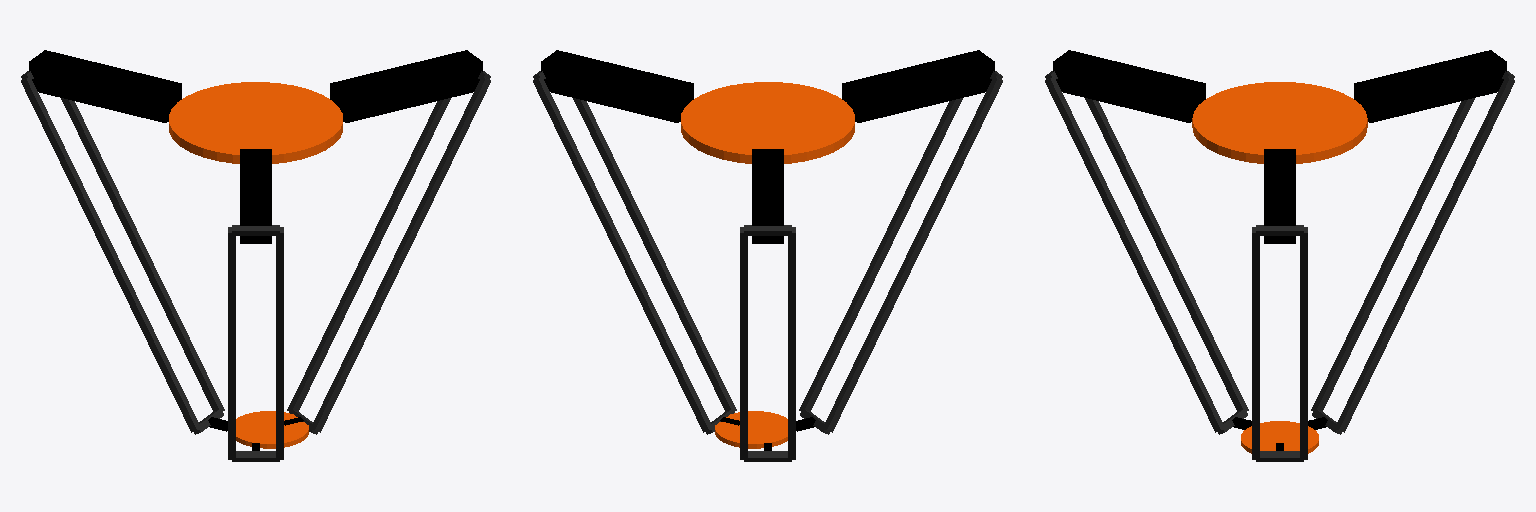
--- What the picture shows (computed from the rendered views, not written in the file) ---
The picture shows the robot from 3 angles, left to right: view 1: azimuth 30°, elevation 25°; view 2: azimuth 150°, elevation 25°; view 3: azimuth 270°, elevation 25°; orthographic projection.
Robot: delta — 29 links, 28 joints (3 revolute, 18 continuous, 7 fixed); root link world; default pose: every joint at zero.
Links seen in each view (by area): view 1: base_link, front_upper_link, left_upper_link, front_lower_right_link, left_lower_left_link, left_lower_right_link, front_lower_left_link, right_upper_link, end_link, right_lower_left_link, right_lower_right_link; view 2: base_link, front_upper_link, right_upper_link, front_lower_left_link, right_lower_right_link, right_lower_left_link, front_lower_right_link, left_upper_link, end_link, left_lower_right_link, left_lower_left_link; view 3: base_link, right_upper_link, left_upper_link, right_lower_left_link, left_lower_right_link, right_lower_right_link, left_lower_left_link, front_upper_link, front_lower_right_link, front_lower_left_link, end_link.
Boxes of the visible links, x1,y1,x2,y2 form: base_link: (169, 82, 342, 163); front_upper_link: (330, 50, 482, 122); left_upper_link: (29, 50, 181, 122); front_lower_right_link: (311, 77, 490, 432); left_lower_left_link: (21, 78, 200, 432); left_lower_right_link: (61, 98, 224, 412); front_lower_left_link: (287, 98, 450, 412); right_upper_link: (240, 149, 271, 243); end_link: (236, 411, 308, 448); right_lower_left_link: (276, 227, 283, 459); right_lower_right_link: (228, 227, 235, 459); base_link: (681, 82, 854, 163); front_upper_link: (541, 50, 693, 122); right_upper_link: (842, 50, 994, 122); front_lower_left_link: (533, 77, 712, 432); right_lower_right_link: (823, 78, 1002, 432); right_lower_left_link: (799, 98, 962, 412); front_lower_right_link: (573, 98, 736, 412); left_upper_link: (752, 149, 783, 243); end_link: (715, 411, 787, 448); left_lower_right_link: (740, 227, 747, 459); left_lower_left_link: (788, 227, 795, 459); base_link: (1192, 82, 1367, 163); right_upper_link: (1053, 50, 1205, 122); left_upper_link: (1354, 50, 1506, 122); right_lower_left_link: (1045, 78, 1224, 432); left_lower_right_link: (1335, 78, 1514, 432); right_lower_right_link: (1085, 98, 1248, 412); left_lower_left_link: (1311, 98, 1474, 412); front_upper_link: (1264, 149, 1295, 243); front_lower_right_link: (1252, 227, 1259, 459); front_lower_left_link: (1300, 227, 1307, 459); end_link: (1241, 421, 1318, 453).
Size in the robot's own frame: 0.5193 by 0.5967 by 0.4598 metres.
Geometry: primitives only (box / cylinder / sphere), no mesh files.

URDF robot description (delta):
<?xml version="1.0" ?>
<!-- =================================================================================== -->
<!-- |    This document was autogenerated by xacro from delta.urdf.xacro               | -->
<!-- |    EDITING THIS FILE BY HAND IS NOT RECOMMENDED                                 | -->
<!-- =================================================================================== -->
<!-- Revolute-Revolute Manipulator -->
<robot name="delta">
  <!-- Upper link -->
  <physics type="ode">
    <max_step_size>0.001</max_step_size>
    <real_time_factor>0.1</real_time_factor>
    <real_time_update_rate>1000</real_time_update_rate>
    <gravity>0 0 -9.8</gravity>
  </physics>
  <gazebo>
    <plugin filename="libgazebo_ros_control.so" name="gazebo_ros_control">
      <robotNamespace/>
      <robotSimType>gazebo_ros_control/DefaultRobotHWSim</robotSimType>
      <legacyModeNS>true</legacyModeNS>
    </plugin>
  </gazebo>
  <gazebo reference="base_link">
    <material>Gazebo/Orange</material>
    <selfCollide>false</selfCollide>
  </gazebo>
  <gazebo reference="end_link">
    <material>Gazebo/Orange</material>
    <selfCollide>false</selfCollide>
  </gazebo>
  <transmission name="front_delta_arm_joint_trans">
    <type>transmission_interface/SimpleTransmission</type>
    <joint name="front_delta_arm_joint">
      <hardwareInterface>hardware_interface/EffortJointInterface</hardwareInterface>
    </joint>
    <actuator name="front_delta_arm_joint_motor">
      <hardwareInterface>hardware_interface/EffortJointInterface</hardwareInterface>
      <mechanicalReduction>1</mechanicalReduction>
    </actuator>
  </transmission>
  <transmission name="right_delta_arm_joint_trans">
    <type>transmission_interface/SimpleTransmission</type>
    <joint name="right_delta_arm_joint">
      <hardwareInterface>hardware_interface/EffortJointInterface</hardwareInterface>
    </joint>
    <actuator name="right_delta_arm_joint_motor">
      <hardwareInterface>hardware_interface/EffortJointInterface</hardwareInterface>
      <mechanicalReduction>1</mechanicalReduction>
    </actuator>
  </transmission>
  <transmission name="left_delta_arm_joint_trans">
    <type>transmission_interface/SimpleTransmission</type>
    <joint name="left_delta_arm_joint">
      <hardwareInterface>hardware_interface/EffortJointInterface</hardwareInterface>
    </joint>
    <actuator name="left_delta_arm_joint_motor">
      <hardwareInterface>hardware_interface/EffortJointInterface</hardwareInterface>
      <mechanicalReduction>1</mechanicalReduction>
    </actuator>
  </transmission>
  <material name="black">
    <color rgba="0.0 0.0 0.0 1.0"/>
  </material>
  <material name="blue">
    <color rgba="0.0 0.0 0.8 1.0"/>
  </material>
  <material name="green">
    <color rgba="0.0 0.8 0.0 1.0"/>
  </material>
  <material name="grey">
    <color rgba="0.2 0.2 0.2 1.0"/>
  </material>
  <material name="orange">
    <color rgba="1.0 0.4235294117647059 0.0392156862745098 1.0"/>
  </material>
  <material name="brown">
    <color rgba="0.8705882352941177 0.8117647058823529 0.7647058823529411 1.0"/>
  </material>
  <material name="red">
    <color rgba="0.8 0.0 0.0 1.0"/>
  </material>
  <material name="white">
    <color rgba="1.0 1.0 1.0 1.0"/>
  </material>
  <!-- Used for fixing robot to Gazebo 'base_link' -->
  <link name="world"/>
  <joint name="fixed" type="fixed">
    <parent link="world"/>
    <child link="base_link"/>
    <origin rpy="0 0 0" xyz="0 0 2"/>
  </joint>
  <link name="base_link">
    <collision>
      <origin rpy="0 0 0" xyz="0 0 0"/>
      <geometry>
        <cylinder length="0.0127" radius="0.111"/>
      </geometry>
    </collision>
    <visual>
      <origin rpy="0 0 0" xyz="0 0 0"/>
      <geometry>
        <cylinder length="0.0127" radius="0.111"/>
      </geometry>
      <material name="orange">
        <color rgba="1.0 0.4235294117647059 0.0392156862745098 1.0"/>
      </material>
    </visual>
    <inertial>
      <origin rpy="0 0 0" xyz="0 0 0"/>
      <mass value="1"/>
      <inertia ixx="0.1" ixy="0.0" ixz="0.0" iyy="0.1" iyz="0.0" izz="0.1"/>
    </inertial>
  </link>
  <link name="front_upper_link">
    <collision>
      <origin rpy="0 0 0" xyz="0.1 0 0"/>
      <geometry>
        <box size="0.2 0.04 0.04"/>
      </geometry>
    </collision>
    <visual>
      <origin rpy="0 0 0" xyz="0.1 0 0"/>
      <geometry>
        <box size="0.2 0.04 0.04"/>
      </geometry>
      <material name="black">
        <color rgba="0.0 0.0 0.0 1.0"/>
      </material>
    </visual>
    <inertial>
      <origin rpy="0 0 0" xyz="0 0 0.1"/>
      <mass value="0.02"/>
      <inertia ixx="5.333333333333334e-06" ixy="0.0" ixz="0.0" iyy="6.933333333333334e-05" iyz="0.0" izz="6.933333333333334e-05"/>
    </inertial>
  </link>
  <joint name="front_upper_joint" type="continuous">
    <parent link="front_upper_link"/>
    <child link="front_lower_top_link"/>
    <origin rpy="0 0.5235987755982988 0" xyz="0.2 0 0"/>
    <axis xyz="0 1 0"/>
  </joint>
  <link name="front_lower_top_link">
    <collision>
      <origin rpy="0 0 0" xyz="0 0 0"/>
      <geometry>
        <box size="0.01 0.06 0.01"/>
      </geometry>
    </collision>
    <visual>
      <origin rpy="0 0 0" xyz="0 0 0"/>
      <geometry>
        <box size="0.01 0.06 0.01"/>
      </geometry>
      <material name="grey">
        <color rgba="0.2 0.2 0.2 1.0"/>
      </material>
    </visual>
    <inertial>
      <origin rpy="0 0 0" xyz="0 0 0"/>
      <mass value="0.02"/>
      <inertia ixx="6.166666666666666e-06" ixy="0.0" ixz="0.0" iyy="3.3333333333333335e-07" iyz="0.0" izz="6.166666666666666e-06"/>
    </inertial>
  </link>
  <joint name="front_lower_top_rignt_joint" type="continuous">
    <parent link="front_lower_top_link"/>
    <child link="front_lower_right_link"/>
    <origin rpy="0 0 0" xyz="0 -0.03 0"/>
    <axis xyz="1 0 0"/>
  </joint>
  <link name="front_lower_right_link">
    <collision>
      <origin rpy="0 0 0" xyz="0 0 -0.25"/>
      <geometry>
        <box size="0.01 0.01 0.5"/>
      </geometry>
    </collision>
    <visual>
      <origin rpy="0 0 0" xyz="0 0 -0.25"/>
      <geometry>
        <box size="0.01 0.01 0.5"/>
      </geometry>
      <material name="grey">
        <color rgba="0.2 0.2 0.2 1.0"/>
      </material>
    </visual>
    <inertial>
      <origin rpy="0 0 0" xyz="0 0 -0.25"/>
      <mass value="0.02"/>
      <inertia ixx="0.00041683333333333335" ixy="0.0" ixz="0.0" iyy="0.00041683333333333335" iyz="0.0" izz="3.3333333333333335e-07"/>
    </inertial>
  </link>
  <joint name="front_lower_top_left_joint" type="continuous">
    <parent link="front_lower_top_link"/>
    <child link="front_lower_left_link"/>
    <origin rpy="0 0 0" xyz="0 0.03 0"/>
    <axis xyz="1 0 0"/>
  </joint>
  <link name="front_lower_left_link">
    <collision>
      <origin rpy="0 0 0" xyz="0 0 -0.25"/>
      <geometry>
        <box size="0.01 0.01 0.5"/>
      </geometry>
    </collision>
    <visual>
      <origin rpy="0 0 0" xyz="0 0 -0.25"/>
      <geometry>
        <box size="0.01 0.01 0.5"/>
      </geometry>
      <material name="grey">
        <color rgba="0.2 0.2 0.2 1.0"/>
      </material>
    </visual>
    <inertial>
      <origin rpy="0 0 0" xyz="0 0 -0.25"/>
      <mass value="0.02"/>
      <inertia ixx="0.00041683333333333335" ixy="0.0" ixz="0.0" iyy="0.00041683333333333335" iyz="0.0" izz="3.3333333333333335e-07"/>
    </inertial>
  </link>
  <joint name="front_lower_right_bottom_joint" type="continuous">
    <parent link="front_lower_right_link"/>
    <child link="front_lower_bottom_link"/>
    <origin rpy="0 0 0" xyz="0 0 -0.5"/>
    <axis xyz="1 0 0"/>
  </joint>
  <link name="front_lower_bottom_link">
    <collision>
      <origin rpy="0 0 0" xyz="0 0.03 0"/>
      <geometry>
        <box size="0.01 0.06 0.01"/>
      </geometry>
    </collision>
    <visual>
      <origin rpy="0 0 0" xyz="0 0.03 0"/>
      <geometry>
        <box size="0.01 0.06 0.01"/>
      </geometry>
      <material name="grey">
        <color rgba="0.2 0.2 0.2 1.0"/>
      </material>
    </visual>
    <inertial>
      <origin rpy="0 0 0" xyz="0 0.03 0"/>
      <mass value="0.02"/>
      <inertia ixx="6.166666666666666e-06" ixy="0.0" ixz="0.0" iyy="6.166666666666666e-06" iyz="0.0" izz="3.3333333333333335e-07"/>
    </inertial>
  </link>
  <joint name="front_lower_bottom_end_joint" type="continuous">
    <parent link="front_lower_bottom_link"/>
    <child link="front_lower_end_link"/>
    <origin rpy="0 -0.5235987755982988 0" xyz="0 0.03 0"/>
    <axis xyz="0 1 0"/>
  </joint>
  <link name="front_lower_end_link">
    <collision>
      <origin rpy="0 0 0" xyz="-0.015 0 0"/>
      <geometry>
        <box size="0.03 0.01 0.01"/>
      </geometry>
    </collision>
    <visual>
      <origin rpy="0 0 0" xyz="-0.015 0 0"/>
      <geometry>
        <box size="0.03 0.01 0.01"/>
      </geometry>
      <material name="black">
        <color rgba="0.0 0.0 0.0 1.0"/>
      </material>
    </visual>
    <inertial>
      <origin rpy="0 0 0" xyz="-0.015 0 0"/>
      <mass value="0.02"/>
      <inertia ixx="3.3333333333333335e-07" ixy="0.0" ixz="0.0" iyy="1.6666666666666669e-06" iyz="0.0" izz="1.6666666666666669e-06"/>
    </inertial>
  </link>
  <joint name="front_lower_bottom_virtual_joint" type="continuous">
    <parent link="front_lower_bottom_link"/>
    <child link="front_lower_bottom_virtual_link"/>
    <origin rpy="0 0 0" xyz="0 0.06 0"/>
    <axis xyz="1 0 0"/>
  </joint>
  <link name="front_lower_bottom_virtual_link">
    <inertial>
      <origin rpy="0 0 0" xyz="0 0 0"/>
      <mass value="0.01"/>
      <inertia ixx="0.001" ixy="0.0" ixz="0.0" iyy="0.001" iyz="0.0" izz="0.001"/>
    </inertial>
  </link>
  <joint name="front_lower_left_virtual_joint" type="fixed">
    <parent link="front_lower_left_link"/>
    <child link="front_lower_left_virtual_link"/>
    <origin rpy="0 0 0" xyz="0 0 -0.5"/>
  </joint>
  <link name="front_lower_left_virtual_link">
    <inertial>
      <origin rpy="0 0 0" xyz="0 0 0"/>
      <mass value="0.01"/>
      <inertia ixx="0.001" ixy="0.0" ixz="0.0" iyy="0.001" iyz="0.0" izz="0.001"/>
    </inertial>
  </link>
  <gazebo>
    <joint name="front_lower_left_bottom_joint" type="fixed">
      <parent>front_lower_left_virtual_link</parent>
      <child>front_lower_bottom_virtual_link</child>
      <pose> 0 0 0 0 0 0 </pose>
    </joint>
  </gazebo>
  <gazebo reference="front_upper_link">
    <material>Gazebo/Black</material>
    <selfCollide>false</selfCollide>
  </gazebo>
  <gazebo reference="front_lower_top_link">
    <material>Gazebo/Grey</material>
    <selfCollide>false</selfCollide>
  </gazebo>
  <gazebo reference="front_lower_right_link">
    <material>Gazebo/Grey</material>
    <selfCollide>false</selfCollide>
  </gazebo>
  <gazebo reference="front_lower_left_link">
    <material>Gazebo/Grey</material>
    <selfCollide>false</selfCollide>
  </gazebo>
  <gazebo reference="front_lower_bottom_link">
    <material>Gazebo/Grey</material>
    <selfCollide>false</selfCollide>
  </gazebo>
  <gazebo reference="front_lower_end_link">
    <material>Gazebo/Black</material>
    <selfCollide>false</selfCollide>
  </gazebo>
  <transmission name="front_upper_joint_trans">
    <type>transmission_interface/SimpleTransmission</type>
    <joint name="front_upper_joint">
      <hardwareInterface>hardware_interface/EffortJointInterface</hardwareInterface>
    </joint>
    <actuator name="front_upper_joint_motor">
      <hardwareInterface>hardware_interface/EffortJointInterface</hardwareInterface>
      <mechanicalReduction>1</mechanicalReduction>
    </actuator>
  </transmission>
  <transmission name="front_lower_top_rignt_joint_trans">
    <type>transmission_interface/SimpleTransmission</type>
    <joint name="front_lower_top_rignt_joint">
      <hardwareInterface>hardware_interface/EffortJointInterface</hardwareInterface>
    </joint>
    <actuator name="front_lower_top_rignt_joint_motor">
      <hardwareInterface>hardware_interface/EffortJointInterface</hardwareInterface>
      <mechanicalReduction>1</mechanicalReduction>
    </actuator>
  </transmission>
  <transmission name="front_lower_top_left_joint_trans">
    <type>transmission_interface/SimpleTransmission</type>
    <joint name="front_lower_top_left_joint">
      <hardwareInterface>hardware_interface/EffortJointInterface</hardwareInterface>
    </joint>
    <actuator name="front_lower_top_left_joint_motor">
      <hardwareInterface>hardware_interface/EffortJointInterface</hardwareInterface>
      <mechanicalReduction>1</mechanicalReduction>
    </actuator>
  </transmission>
  <transmission name="front_lower_right_bottom_joint_trans">
    <type>transmission_interface/SimpleTransmission</type>
    <joint name="front_lower_right_bottom_joint">
      <hardwareInterface>hardware_interface/EffortJointInterface</hardwareInterface>
    </joint>
    <actuator name="front_lower_right_bottom_joint_motor">
      <hardwareInterface>hardware_interface/EffortJointInterface</hardwareInterface>
      <mechanicalReduction>1</mechanicalReduction>
    </actuator>
  </transmission>
  <transmission name="front_lower_bottom_end_joint_trans">
    <type>transmission_interface/SimpleTransmission</type>
    <joint name="front_lower_bottom_end_joint">
      <hardwareInterface>hardware_interface/EffortJointInterface</hardwareInterface>
    </joint>
    <actuator name="front_lower_bottom_end_joint_motor">
      <hardwareInterface>hardware_interface/EffortJointInterface</hardwareInterface>
      <mechanicalReduction>1</mechanicalReduction>
    </actuator>
  </transmission>
  <transmission name="front_lower_bottom_virtual_joint_trans">
    <type>transmission_interface/SimpleTransmission</type>
    <joint name="front_lower_bottom_virtual_joint">
      <hardwareInterface>hardware_interface/EffortJointInterface</hardwareInterface>
    </joint>
    <actuator name="front_lower_bottom_virtual_joint_motor">
      <hardwareInterface>hardware_interface/EffortJointInterface</hardwareInterface>
      <mechanicalReduction>1</mechanicalReduction>
    </actuator>
  </transmission>
  <joint name="front_delta_arm_joint" type="revolute">
    <parent link="base_link"/>
    <child link="front_upper_link"/>
    <origin rpy="0 0 0" xyz="0.12 0 0"/>
    <axis xyz="0 1 0"/>
    <dynamics damping="0.7"/>
    <limit effort="6" lower="-0.3490658503988659" upper="1.5707963267948966" velocity="8"/>
  </joint>
  <link name="right_upper_link">
    <collision>
      <origin rpy="0 0 0" xyz="0.1 0 0"/>
      <geometry>
        <box size="0.2 0.04 0.04"/>
      </geometry>
    </collision>
    <visual>
      <origin rpy="0 0 0" xyz="0.1 0 0"/>
      <geometry>
        <box size="0.2 0.04 0.04"/>
      </geometry>
      <material name="black">
        <color rgba="0.0 0.0 0.0 1.0"/>
      </material>
    </visual>
    <inertial>
      <origin rpy="0 0 0" xyz="0 0 0.1"/>
      <mass value="0.02"/>
      <inertia ixx="5.333333333333334e-06" ixy="0.0" ixz="0.0" iyy="6.933333333333334e-05" iyz="0.0" izz="6.933333333333334e-05"/>
    </inertial>
  </link>
  <joint name="right_upper_joint" type="continuous">
    <parent link="right_upper_link"/>
    <child link="right_lower_top_link"/>
    <origin rpy="0 0.5235987755982988 0" xyz="0.2 0 0"/>
    <axis xyz="0 1 0"/>
  </joint>
  <link name="right_lower_top_link">
    <collision>
      <origin rpy="0 0 0" xyz="0 0 0"/>
      <geometry>
        <box size="0.01 0.06 0.01"/>
      </geometry>
    </collision>
    <visual>
      <origin rpy="0 0 0" xyz="0 0 0"/>
      <geometry>
        <box size="0.01 0.06 0.01"/>
      </geometry>
      <material name="grey">
        <color rgba="0.2 0.2 0.2 1.0"/>
      </material>
    </visual>
    <inertial>
      <origin rpy="0 0 0" xyz="0 0 0"/>
      <mass value="0.02"/>
      <inertia ixx="6.166666666666666e-06" ixy="0.0" ixz="0.0" iyy="3.3333333333333335e-07" iyz="0.0" izz="6.166666666666666e-06"/>
    </inertial>
  </link>
  <joint name="right_lower_top_rignt_joint" type="continuous">
    <parent link="right_lower_top_link"/>
    <child link="right_lower_right_link"/>
    <origin rpy="0 0 0" xyz="0 -0.03 0"/>
    <axis xyz="1 0 0"/>
  </joint>
  <link name="right_lower_right_link">
    <collision>
      <origin rpy="0 0 0" xyz="0 0 -0.25"/>
      <geometry>
        <box size="0.01 0.01 0.5"/>
      </geometry>
    </collision>
    <visual>
      <origin rpy="0 0 0" xyz="0 0 -0.25"/>
      <geometry>
        <box size="0.01 0.01 0.5"/>
      </geometry>
      <material name="grey">
        <color rgba="0.2 0.2 0.2 1.0"/>
      </material>
    </visual>
    <inertial>
      <origin rpy="0 0 0" xyz="0 0 -0.25"/>
      <mass value="0.02"/>
      <inertia ixx="0.00041683333333333335" ixy="0.0" ixz="0.0" iyy="0.00041683333333333335" iyz="0.0" izz="3.3333333333333335e-07"/>
    </inertial>
  </link>
  <joint name="right_lower_top_left_joint" type="continuous">
    <parent link="right_lower_top_link"/>
    <child link="right_lower_left_link"/>
    <origin rpy="0 0 0" xyz="0 0.03 0"/>
    <axis xyz="1 0 0"/>
  </joint>
  <link name="right_lower_left_link">
    <collision>
      <origin rpy="0 0 0" xyz="0 0 -0.25"/>
      <geometry>
        <box size="0.01 0.01 0.5"/>
      </geometry>
    </collision>
    <visual>
      <origin rpy="0 0 0" xyz="0 0 -0.25"/>
      <geometry>
        <box size="0.01 0.01 0.5"/>
      </geometry>
      <material name="grey">
        <color rgba="0.2 0.2 0.2 1.0"/>
      </material>
    </visual>
    <inertial>
      <origin rpy="0 0 0" xyz="0 0 -0.25"/>
      <mass value="0.02"/>
      <inertia ixx="0.00041683333333333335" ixy="0.0" ixz="0.0" iyy="0.00041683333333333335" iyz="0.0" izz="3.3333333333333335e-07"/>
    </inertial>
  </link>
  <joint name="right_lower_right_bottom_joint" type="continuous">
    <parent link="right_lower_right_link"/>
    <child link="right_lower_bottom_link"/>
    <origin rpy="0 0 0" xyz="0 0 -0.5"/>
    <axis xyz="1 0 0"/>
  </joint>
  <link name="right_lower_bottom_link">
    <collision>
      <origin rpy="0 0 0" xyz="0 0.03 0"/>
      <geometry>
        <box size="0.01 0.06 0.01"/>
      </geometry>
    </collision>
    <visual>
      <origin rpy="0 0 0" xyz="0 0.03 0"/>
      <geometry>
        <box size="0.01 0.06 0.01"/>
      </geometry>
      <material name="grey">
        <color rgba="0.2 0.2 0.2 1.0"/>
      </material>
    </visual>
    <inertial>
      <origin rpy="0 0 0" xyz="0 0.03 0"/>
      <mass value="0.02"/>
      <inertia ixx="6.166666666666666e-06" ixy="0.0" ixz="0.0" iyy="6.166666666666666e-06" iyz="0.0" izz="3.3333333333333335e-07"/>
    </inertial>
  </link>
  <joint name="right_lower_bottom_end_joint" type="continuous">
    <parent link="right_lower_bottom_link"/>
    <child link="right_lower_end_link"/>
    <origin rpy="0 -0.5235987755982988 0" xyz="0 0.03 0"/>
    <axis xyz="0 1 0"/>
  </joint>
  <link name="right_lower_end_link">
    <collision>
      <origin rpy="0 0 0" xyz="-0.015 0 0"/>
      <geometry>
        <box size="0.03 0.01 0.01"/>
      </geometry>
    </collision>
    <visual>
      <origin rpy="0 0 0" xyz="-0.015 0 0"/>
      <geometry>
        <box size="0.03 0.01 0.01"/>
      </geometry>
      <material name="black">
        <color rgba="0.0 0.0 0.0 1.0"/>
      </material>
    </visual>
    <inertial>
      <origin rpy="0 0 0" xyz="-0.015 0 0"/>
      <mass value="0.02"/>
      <inertia ixx="3.3333333333333335e-07" ixy="0.0" ixz="0.0" iyy="1.6666666666666669e-06" iyz="0.0" izz="1.6666666666666669e-06"/>
    </inertial>
  </link>
  <joint name="right_lower_bottom_virtual_joint" type="continuous">
    <parent link="right_lower_bottom_link"/>
    <child link="right_lower_bottom_virtual_link"/>
    <origin rpy="0 0 0" xyz="0 0.06 0"/>
    <axis xyz="1 0 0"/>
  </joint>
  <link name="right_lower_bottom_virtual_link">
    <inertial>
      <origin rpy="0 0 0" xyz="0 0 0"/>
      <mass value="0.01"/>
      <inertia ixx="0.001" ixy="0.0" ixz="0.0" iyy="0.001" iyz="0.0" izz="0.001"/>
    </inertial>
  </link>
  <joint name="right_lower_left_virtual_joint" type="fixed">
    <parent link="right_lower_left_link"/>
    <child link="right_lower_left_virtual_link"/>
    <origin rpy="0 0 0" xyz="0 0 -0.5"/>
  </joint>
  <link name="right_lower_left_virtual_link">
    <inertial>
      <origin rpy="0 0 0" xyz="0 0 0"/>
      <mass value="0.01"/>
      <inertia ixx="0.001" ixy="0.0" ixz="0.0" iyy="0.001" iyz="0.0" izz="0.001"/>
    </inertial>
  </link>
  <gazebo>
    <joint name="right_lower_left_bottom_joint" type="fixed">
      <parent>right_lower_left_virtual_link</parent>
      <child>right_lower_bottom_virtual_link</child>
      <pose> 0 0 0 0 0 0 </pose>
    </joint>
  </gazebo>
  <gazebo reference="right_upper_link">
    <material>Gazebo/Black</material>
    <selfCollide>false</selfCollide>
  </gazebo>
  <gazebo reference="right_lower_top_link">
    <material>Gazebo/Grey</material>
    <selfCollide>false</selfCollide>
  </gazebo>
  <gazebo reference="right_lower_right_link">
    <material>Gazebo/Grey</material>
    <selfCollide>false</selfCollide>
  </gazebo>
  <gazebo reference="right_lower_left_link">
    <material>Gazebo/Grey</material>
    <selfCollide>false</selfCollide>
  </gazebo>
  <gazebo reference="right_lower_bottom_link">
    <material>Gazebo/Grey</material>
    <selfCollide>false</selfCollide>
  </gazebo>
  <gazebo reference="right_lower_end_link">
    <material>Gazebo/Black</material>
    <selfCollide>false</selfCollide>
  </gazebo>
  <transmission name="right_upper_joint_trans">
    <type>transmission_interface/SimpleTransmission</type>
    <joint name="right_upper_joint">
      <hardwareInterface>hardware_interface/EffortJointInterface</hardwareInterface>
    </joint>
    <actuator name="right_upper_joint_motor">
      <hardwareInterface>hardware_interface/EffortJointInterface</hardwareInterface>
      <mechanicalReduction>1</mechanicalReduction>
    </actuator>
  </transmission>
  <transmission name="right_lower_top_rignt_joint_trans">
    <type>transmission_interface/SimpleTransmission</type>
    <joint name="right_lower_top_rignt_joint">
      <hardwareInterface>hardware_interface/EffortJointInterface</hardwareInterface>
    </joint>
    <actuator name="right_lower_top_rignt_joint_motor">
      <hardwareInterface>hardware_interface/EffortJointInterface</hardwareInterface>
      <mechanicalReduction>1</mechanicalReduction>
    </actuator>
  </transmission>
  <transmission name="right_lower_top_left_joint_trans">
    <type>transmission_interface/SimpleTransmission</type>
    <joint name="right_lower_top_left_joint">
      <hardwareInterface>hardware_interface/EffortJointInterface</hardwareInterface>
    </joint>
    <actuator name="right_lower_top_left_joint_motor">
      <hardwareInterface>hardware_interface/EffortJointInterface</hardwareInterface>
      <mechanicalReduction>1</mechanicalReduction>
    </actuator>
  </transmission>
  <transmission name="right_lower_right_bottom_joint_trans">
    <type>transmission_interface/SimpleTransmission</type>
    <joint name="right_lower_right_bottom_joint">
      <hardwareInterface>hardware_interface/EffortJointInterface</hardwareInterface>
    </joint>
    <actuator name="right_lower_right_bottom_joint_motor">
      <hardwareInterface>hardware_interface/EffortJointInterface</hardwareInterface>
      <mechanicalReduction>1</mechanicalReduction>
    </actuator>
  </transmission>
  <transmission name="right_lower_bottom_end_joint_trans">
    <type>transmission_interface/SimpleTransmission</type>
    <joint name="right_lower_bottom_end_joint">
      <hardwareInterface>hardware_interface/EffortJointInterface</hardwareInterface>
    </joint>
    <actuator name="right_lower_bottom_end_joint_motor">
      <hardwareInterface>hardware_interface/EffortJointInterface</hardwareInterface>
      <mechanicalReduction>1</mechanicalReduction>
    </actuator>
  </transmission>
  <transmission name="right_lower_bottom_virtual_joint_trans">
    <type>transmission_interface/SimpleTransmission</type>
    <joint name="right_lower_bottom_virtual_joint">
      <hardwareInterface>hardware_interface/EffortJointInterface</hardwareInterface>
    </joint>
    <actuator name="right_lower_bottom_virtual_joint_motor">
      <hardwareInterface>hardware_interface/EffortJointInterface</hardwareInterface>
      <mechanicalReduction>1</mechanicalReduction>
    </actuator>
  </transmission>
  <joint name="right_delta_arm_joint" type="revolute">
    <parent link="base_link"/>
    <child link="right_upper_link"/>
    <origin rpy="0 0 -2.0943951023931953" xyz="-0.06 -0.1039 0"/>
    <axis xyz="0 1 0"/>
    <dynamics damping="0.7"/>
    <limit effort="6" lower="-0.3490658503988659" upper="1.5707963267948966" velocity="8"/>
  </joint>
  <link name="left_upper_link">
    <collision>
      <origin rpy="0 0 0" xyz="0.1 0 0"/>
      <geometry>
        <box size="0.2 0.04 0.04"/>
      </geometry>
    </collision>
    <visual>
      <origin rpy="0 0 0" xyz="0.1 0 0"/>
      <geometry>
        <box size="0.2 0.04 0.04"/>
      </geometry>
      <material name="black">
        <color rgba="0.0 0.0 0.0 1.0"/>
      </material>
    </visual>
    <inertial>
      <origin rpy="0 0 0" xyz="0 0 0.1"/>
      <mass value="0.02"/>
      <inertia ixx="5.333333333333334e-06" ixy="0.0" ixz="0.0" iyy="6.933333333333334e-05" iyz="0.0" izz="6.933333333333334e-05"/>
    </inertial>
  </link>
  <joint name="left_upper_joint" type="continuous">
    <parent link="left_upper_link"/>
    <child link="left_lower_top_link"/>
    <origin rpy="0 0.5235987755982988 0" xyz="0.2 0 0"/>
    <axis xyz="0 1 0"/>
  </joint>
  <link name="left_lower_top_link">
    <collision>
      <origin rpy="0 0 0" xyz="0 0 0"/>
      <geometry>
        <box size="0.01 0.06 0.01"/>
      </geometry>
    </collision>
    <visual>
      <origin rpy="0 0 0" xyz="0 0 0"/>
      <geometry>
        <box size="0.01 0.06 0.01"/>
      </geometry>
      <material name="grey">
        <color rgba="0.2 0.2 0.2 1.0"/>
      </material>
    </visual>
    <inertial>
      <origin rpy="0 0 0" xyz="0 0 0"/>
      <mass value="0.02"/>
      <inertia ixx="6.166666666666666e-06" ixy="0.0" ixz="0.0" iyy="3.3333333333333335e-07" iyz="0.0" izz="6.166666666666666e-06"/>
    </inertial>
  </link>
  <joint name="left_lower_top_rignt_joint" type="continuous">
    <parent link="left_lower_top_link"/>
    <child link="left_lower_right_link"/>
    <origin rpy="0 0 0" xyz="0 -0.03 0"/>
    <axis xyz="1 0 0"/>
  </joint>
  <link name="left_lower_right_link">
    <collision>
      <origin rpy="0 0 0" xyz="0 0 -0.25"/>
      <geometry>
        <box size="0.01 0.01 0.5"/>
      </geometry>
    </collision>
    <visual>
      <origin rpy="0 0 0" xyz="0 0 -0.25"/>
      <geometry>
        <box size="0.01 0.01 0.5"/>
      </geometry>
      <material name="grey">
        <color rgba="0.2 0.2 0.2 1.0"/>
      </material>
    </visual>
    <inertial>
      <origin rpy="0 0 0" xyz="0 0 -0.25"/>
      <mass value="0.02"/>
      <inertia ixx="0.00041683333333333335" ixy="0.0" ixz="0.0" iyy="0.00041683333333333335" iyz="0.0" izz="3.3333333333333335e-07"/>
    </inertial>
  </link>
  <joint name="left_lower_top_left_joint" type="continuous">
    <parent link="left_lower_top_link"/>
    <child link="left_lower_left_link"/>
    <origin rpy="0 0 0" xyz="0 0.03 0"/>
    <axis xyz="1 0 0"/>
  </joint>
  <link name="left_lower_left_link">
    <collision>
      <origin rpy="0 0 0" xyz="0 0 -0.25"/>
      <geometry>
        <box size="0.01 0.01 0.5"/>
      </geometry>
    </collision>
    <visual>
      <origin rpy="0 0 0" xyz="0 0 -0.25"/>
      <geometry>
        <box size="0.01 0.01 0.5"/>
      </geometry>
      <material name="grey">
        <color rgba="0.2 0.2 0.2 1.0"/>
      </material>
    </visual>
    <inertial>
      <origin rpy="0 0 0" xyz="0 0 -0.25"/>
      <mass value="0.02"/>
      <inertia ixx="0.00041683333333333335" ixy="0.0" ixz="0.0" iyy="0.00041683333333333335" iyz="0.0" izz="3.3333333333333335e-07"/>
    </inertial>
  </link>
  <joint name="left_lower_right_bottom_joint" type="continuous">
    <parent link="left_lower_right_link"/>
    <child link="left_lower_bottom_link"/>
    <origin rpy="0 0 0" xyz="0 0 -0.5"/>
    <axis xyz="1 0 0"/>
  </joint>
  <link name="left_lower_bottom_link">
    <collision>
      <origin rpy="0 0 0" xyz="0 0.03 0"/>
      <geometry>
        <box size="0.01 0.06 0.01"/>
      </geometry>
    </collision>
    <visual>
      <origin rpy="0 0 0" xyz="0 0.03 0"/>
      <geometry>
        <box size="0.01 0.06 0.01"/>
      </geometry>
      <material name="grey">
        <color rgba="0.2 0.2 0.2 1.0"/>
      </material>
    </visual>
    <inertial>
      <origin rpy="0 0 0" xyz="0 0.03 0"/>
      <mass value="0.02"/>
      <inertia ixx="6.166666666666666e-06" ixy="0.0" ixz="0.0" iyy="6.166666666666666e-06" iyz="0.0" izz="3.3333333333333335e-07"/>
    </inertial>
  </link>
  <joint name="left_lower_bottom_end_joint" type="continuous">
    <parent link="left_lower_bottom_link"/>
    <child link="left_lower_end_link"/>
    <origin rpy="0 -0.5235987755982988 0" xyz="0 0.03 0"/>
    <axis xyz="0 1 0"/>
  </joint>
  <link name="left_lower_end_link">
    <collision>
      <origin rpy="0 0 0" xyz="-0.015 0 0"/>
      <geometry>
        <box size="0.03 0.01 0.01"/>
      </geometry>
    </collision>
    <visual>
      <origin rpy="0 0 0" xyz="-0.015 0 0"/>
      <geometry>
        <box size="0.03 0.01 0.01"/>
      </geometry>
      <material name="black">
        <color rgba="0.0 0.0 0.0 1.0"/>
      </material>
    </visual>
    <inertial>
      <origin rpy="0 0 0" xyz="-0.015 0 0"/>
      <mass value="0.02"/>
      <inertia ixx="3.3333333333333335e-07" ixy="0.0" ixz="0.0" iyy="1.6666666666666669e-06" iyz="0.0" izz="1.6666666666666669e-06"/>
    </inertial>
  </link>
  <joint name="left_lower_bottom_virtual_joint" type="continuous">
    <parent link="left_lower_bottom_link"/>
    <child link="left_lower_bottom_virtual_link"/>
    <origin rpy="0 0 0" xyz="0 0.06 0"/>
    <axis xyz="1 0 0"/>
  </joint>
  <link name="left_lower_bottom_virtual_link">
    <inertial>
      <origin rpy="0 0 0" xyz="0 0 0"/>
      <mass value="0.01"/>
      <inertia ixx="0.001" ixy="0.0" ixz="0.0" iyy="0.001" iyz="0.0" izz="0.001"/>
    </inertial>
  </link>
  <joint name="left_lower_left_virtual_joint" type="fixed">
    <parent link="left_lower_left_link"/>
    <child link="left_lower_left_virtual_link"/>
    <origin rpy="0 0 0" xyz="0 0 -0.5"/>
  </joint>
  <link name="left_lower_left_virtual_link">
    <inertial>
      <origin rpy="0 0 0" xyz="0 0 0"/>
      <mass value="0.01"/>
      <inertia ixx="0.001" ixy="0.0" ixz="0.0" iyy="0.001" iyz="0.0" izz="0.001"/>
    </inertial>
  </link>
  <gazebo>
    <joint name="left_lower_left_bottom_joint" type="fixed">
      <parent>left_lower_left_virtual_link</parent>
      <child>left_lower_bottom_virtual_link</child>
      <pose> 0 0 0 0 0 0 </pose>
    </joint>
  </gazebo>
  <gazebo reference="left_upper_link">
    <material>Gazebo/Black</material>
    <selfCollide>false</selfCollide>
  </gazebo>
  <gazebo reference="left_lower_top_link">
    <material>Gazebo/Grey</material>
    <selfCollide>false</selfCollide>
  </gazebo>
  <gazebo reference="left_lower_right_link">
    <material>Gazebo/Grey</material>
    <selfCollide>false</selfCollide>
  </gazebo>
  <gazebo reference="left_lower_left_link">
    <material>Gazebo/Grey</material>
    <selfCollide>false</selfCollide>
  </gazebo>
  <gazebo reference="left_lower_bottom_link">
    <material>Gazebo/Grey</material>
    <selfCollide>false</selfCollide>
  </gazebo>
  <gazebo reference="left_lower_end_link">
    <material>Gazebo/Black</material>
    <selfCollide>false</selfCollide>
  </gazebo>
  <transmission name="left_upper_joint_trans">
    <type>transmission_interface/SimpleTransmission</type>
    <joint name="left_upper_joint">
      <hardwareInterface>hardware_interface/EffortJointInterface</hardwareInterface>
    </joint>
    <actuator name="left_upper_joint_motor">
      <hardwareInterface>hardware_interface/EffortJointInterface</hardwareInterface>
      <mechanicalReduction>1</mechanicalReduction>
    </actuator>
  </transmission>
  <transmission name="left_lower_top_rignt_joint_trans">
    <type>transmission_interface/SimpleTransmission</type>
    <joint name="left_lower_top_rignt_joint">
      <hardwareInterface>hardware_interface/EffortJointInterface</hardwareInterface>
    </joint>
    <actuator name="left_lower_top_rignt_joint_motor">
      <hardwareInterface>hardware_interface/EffortJointInterface</hardwareInterface>
      <mechanicalReduction>1</mechanicalReduction>
    </actuator>
  </transmission>
  <transmission name="left_lower_top_left_joint_trans">
    <type>transmission_interface/SimpleTransmission</type>
    <joint name="left_lower_top_left_joint">
      <hardwareInterface>hardware_interface/EffortJointInterface</hardwareInterface>
    </joint>
    <actuator name="left_lower_top_left_joint_motor">
      <hardwareInterface>hardware_interface/EffortJointInterface</hardwareInterface>
      <mechanicalReduction>1</mechanicalReduction>
    </actuator>
  </transmission>
  <transmission name="left_lower_right_bottom_joint_trans">
    <type>transmission_interface/SimpleTransmission</type>
    <joint name="left_lower_right_bottom_joint">
      <hardwareInterface>hardware_interface/EffortJointInterface</hardwareInterface>
    </joint>
    <actuator name="left_lower_right_bottom_joint_motor">
      <hardwareInterface>hardware_interface/EffortJointInterface</hardwareInterface>
      <mechanicalReduction>1</mechanicalReduction>
    </actuator>
  </transmission>
  <transmission name="left_lower_bottom_end_joint_trans">
    <type>transmission_interface/SimpleTransmission</type>
    <joint name="left_lower_bottom_end_joint">
      <hardwareInterface>hardware_interface/EffortJointInterface</hardwareInterface>
    </joint>
    <actuator name="left_lower_bottom_end_joint_motor">
      <hardwareInterface>hardware_interface/EffortJointInterface</hardwareInterface>
      <mechanicalReduction>1</mechanicalReduction>
    </actuator>
  </transmission>
  <transmission name="left_lower_bottom_virtual_joint_trans">
    <type>transmission_interface/SimpleTransmission</type>
    <joint name="left_lower_bottom_virtual_joint">
      <hardwareInterface>hardware_interface/EffortJointInterface</hardwareInterface>
    </joint>
    <actuator name="left_lower_bottom_virtual_joint_motor">
      <hardwareInterface>hardware_interface/EffortJointInterface</hardwareInterface>
      <mechanicalReduction>1</mechanicalReduction>
    </actuator>
  </transmission>
  <joint name="left_delta_arm_joint" type="revolute">
    <parent link="base_link"/>
    <child link="left_upper_link"/>
    <origin rpy="0 0 2.0943951023931953" xyz="-0.06 0.1039 0"/>
    <axis xyz="0 1 0"/>
    <dynamics damping="0.7"/>
    <limit effort="6" lower="-0.3490658503988659" upper="1.5707963267948966" velocity="8"/>
  </joint>
  <link name="end_link">
    <collision>
      <origin rpy="0 0 0" xyz="0 0 0"/>
      <geometry>
        <cylinder length="0.00635" radius="0.05"/>
      </geometry>
    </collision>
    <visual>
      <origin rpy="0 0 0" xyz="0 0 0"/>
      <geometry>
        <cylinder length="0.00635" radius="0.05"/>
      </geometry>
      <material name="orange">
        <color rgba="1.0 0.4235294117647059 0.0392156862745098 1.0"/>
      </material>
    </visual>
    <inertial>
      <origin rpy="0 0 0" xyz="0 0 0"/>
      <mass value="0.1"/>
      <inertia ixx="0.001" ixy="0.0" ixz="0.0" iyy="0.001" iyz="0.0" izz="0.001"/>
    </inertial>
  </link>
  <joint name="front_end_joint" type="fixed">
    <parent link="front_lower_end_link"/>
    <child link="end_link"/>
    <origin rpy="0 0 0" xyz="-0.05 0 0"/>
  </joint>
  <link name="right_end_virtual_link">
    <inertial>
      <origin rpy="0 0 0" xyz="0 0 0"/>
      <mass value="0.001"/>
      <inertia ixx="0.0001" ixy="0.0" ixz="0.0" iyy="0.0001" iyz="0.0" izz="0.0001"/>
    </inertial>
  </link>
  <joint name="right_end_virtual_joint" type="fixed">
    <parent link="end_link"/>
    <child link="right_end_virtual_link"/>
    <origin rpy="0 0 -2.0943951023931953" xyz="-0.025 -0.0433 0"/>
  </joint>
  <link name="left_end_virtual_link">
    <inertial>
      <origin rpy="0 0 0" xyz="0 0 0"/>
      <mass value="0.001"/>
      <inertia ixx="0.0001" ixy="0.0" ixz="0.0" iyy="0.0001" iyz="0.0" izz="0.0001"/>
    </inertial>
  </link>
  <joint name="left_end_virtual_joint" type="fixed">
    <parent link="end_link"/>
    <child link="left_end_virtual_link"/>
    <origin rpy="0 0 2.0943951023931953" xyz="-0.025 0.0433 0"/>
  </joint>
  <gazebo>
    <joint name="right_end_joint" type="fixed">
      <parent>right_lower_end_link</parent>
      <child>right_end_virtual_link</child>
      <pose> 0 0 0 0 0 0 </pose>
    </joint>
    <joint name="left_end_joint" type="fixed">
      <parent>left_lower_end_link</parent>
      <child>left_end_virtual_link</child>
      <pose> 0 0 0 0 0 0 </pose>
    </joint>
  </gazebo>
</robot>
